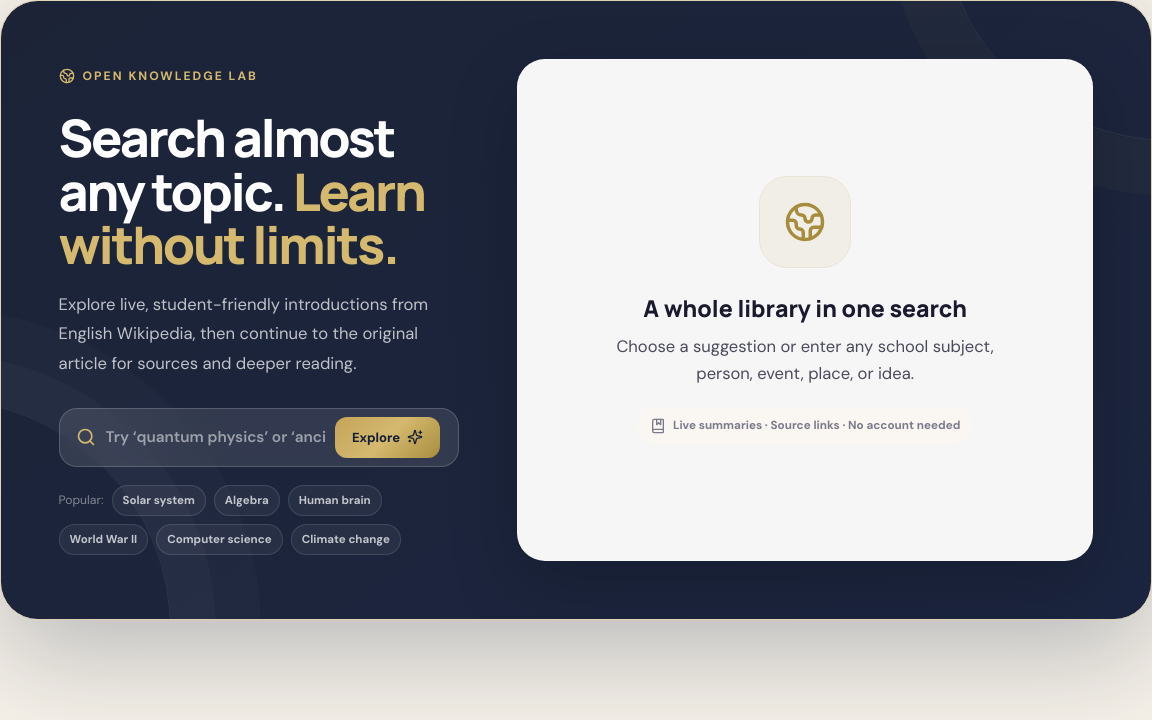
Test: WikipediaExplorer › searches Wikipedia through the safe application endpoint
Type "solar system" into the field named "Search Wikipedia topics" at (215, 437), box x1=106 y1=427 x2=325 y2=447
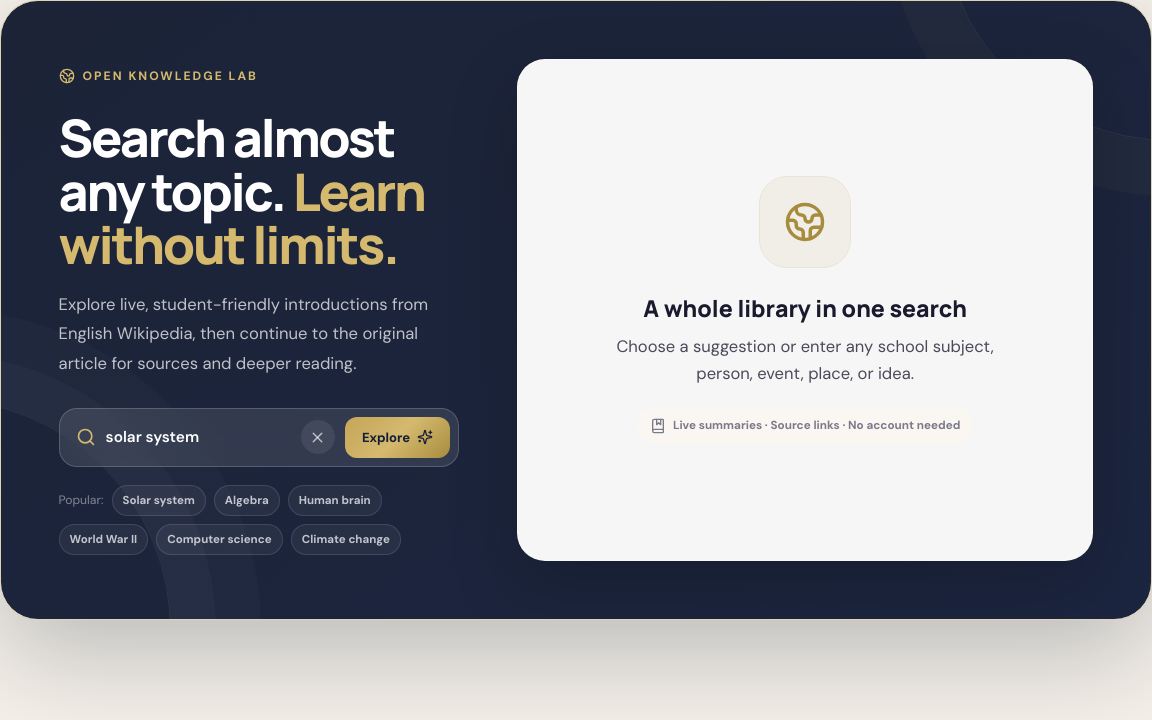
Click the button "Explore" at (398, 437), box x1=345 y1=417 x2=450 y2=458
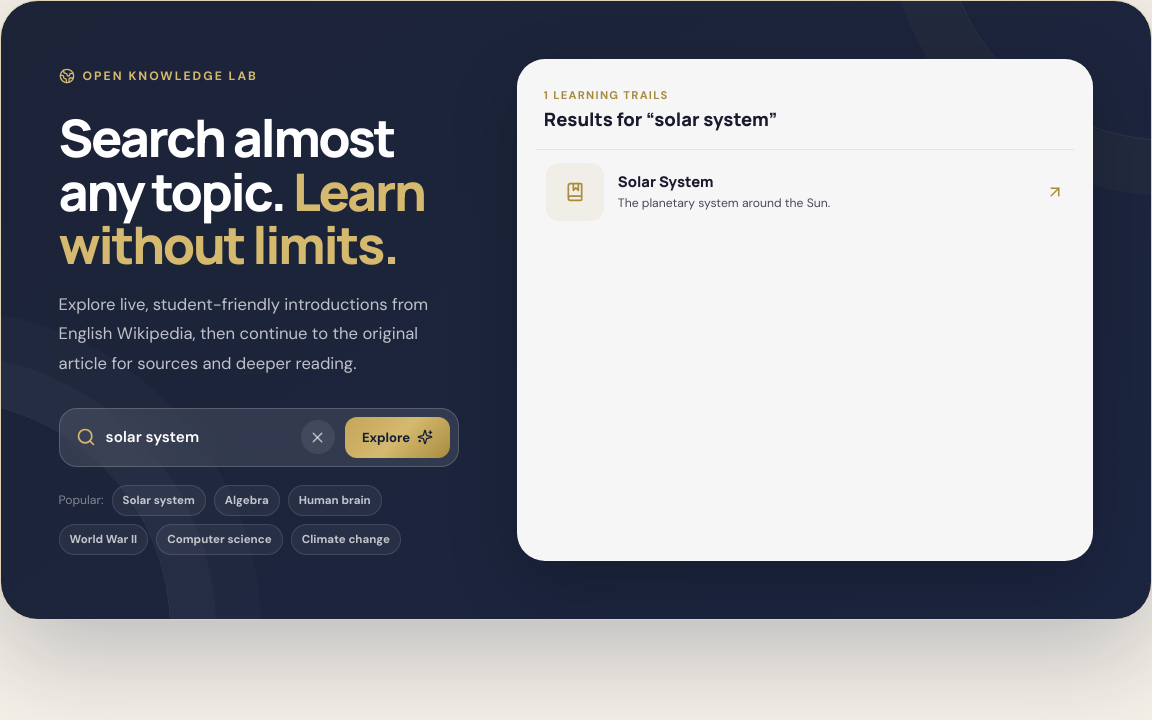
Check: the text "Solar System" is shown, box x1=618 y1=171 x2=713 y2=191
